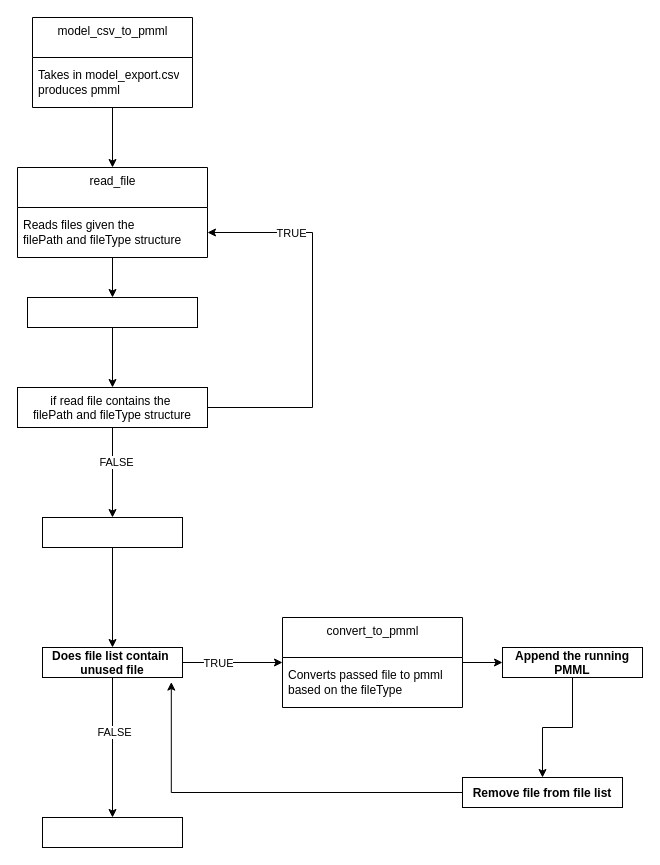
Some shapes in this 660 by 865 pixel diagram are drawn without their labels. Each missing label, with the box of its shape:
Append fileType = file list: (26, 296, 198, 328)
Create Empty PMML: (42, 516, 182, 548)
Return the PMML: (42, 816, 182, 848)
